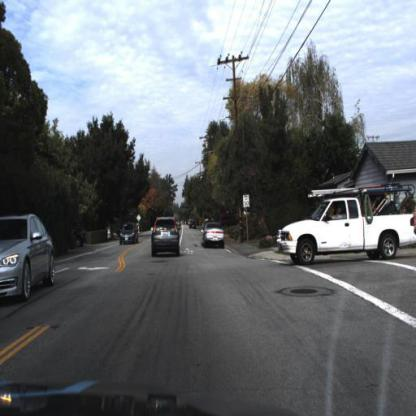car: (278, 180, 415, 264), (1, 215, 57, 304), (149, 215, 184, 261), (198, 221, 224, 251), (120, 222, 141, 247), (74, 219, 90, 250), (121, 222, 140, 245)
